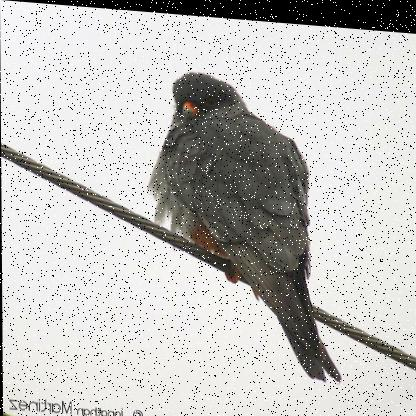Burung: (150, 65, 346, 387)
